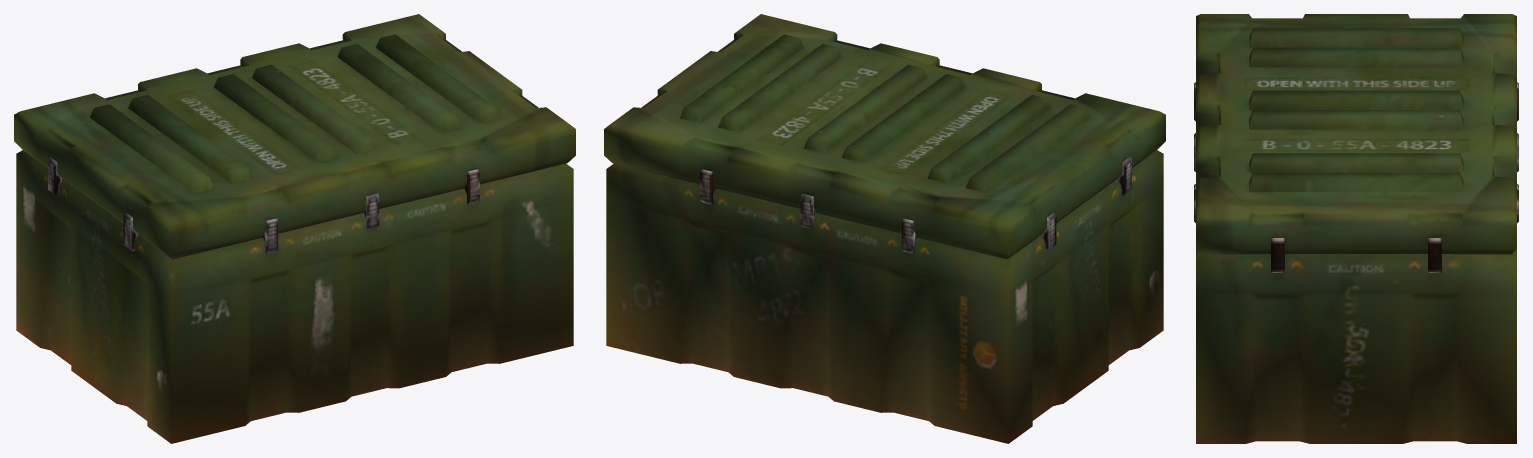
The model's file is mb-ammo-crate.lod0.glb.
The picture shows the model from 3 angles, left to right: view 1: azimuth 30°, elevation 25°; view 2: azimuth 150°, elevation 25°; view 3: azimuth 270°, elevation 25°; orthographic projection. The views are drawn at different scales.
Parts seen in each view (by area): view 1: Crate_02_low_Crate_0; view 2: Crate_02_low_Crate_0; view 3: Crate_02_low_Crate_0.
Part boxes in pixels (<box>): Crate_02_low_Crate_0: <box>14,14,575,443</box>; Crate_02_low_Crate_0: <box>604,14,1165,443</box>; Crate_02_low_Crate_0: <box>1194,14,1518,443</box>.
Bounding box in the file's own units: 1.2 × 0.6421 × 0.794.
Materials: 1 (1 with a texture image).
